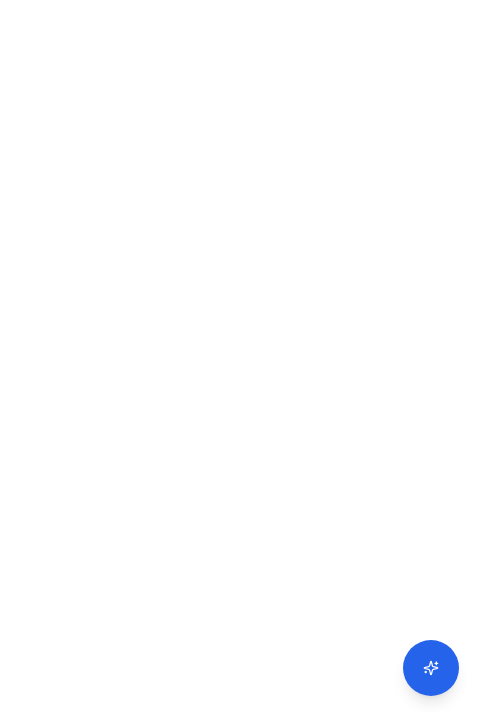
Scenario: AIAssistant › displays localized API errors inline
Click the button named "Открыть AI-ассистента": (431, 668) [403, 640, 459, 696]
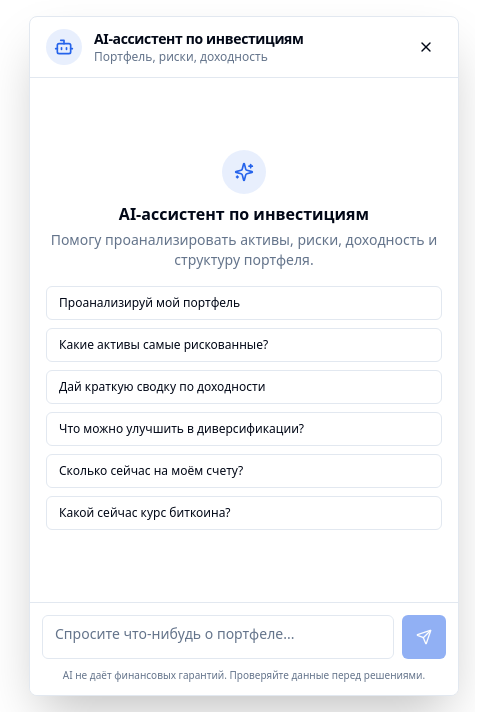
In the text box with placeholder "Спросите что-нибудь о портфеле...": (218, 637) [42, 615, 394, 659], type "Say hello"
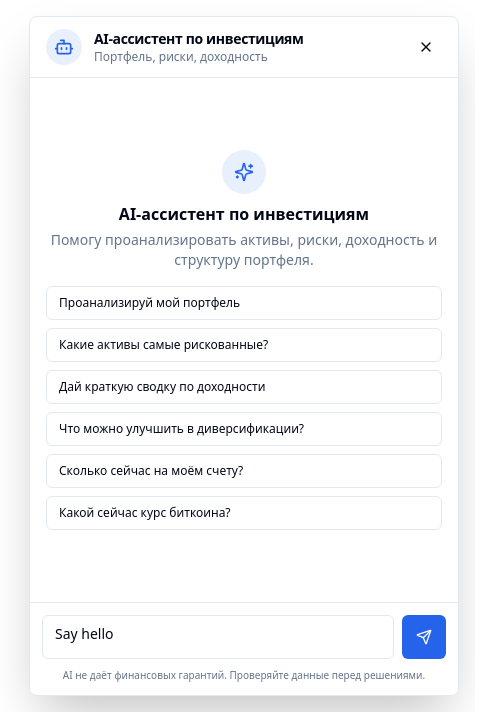
Click the button named "Отправить": (424, 637) [402, 615, 446, 659]
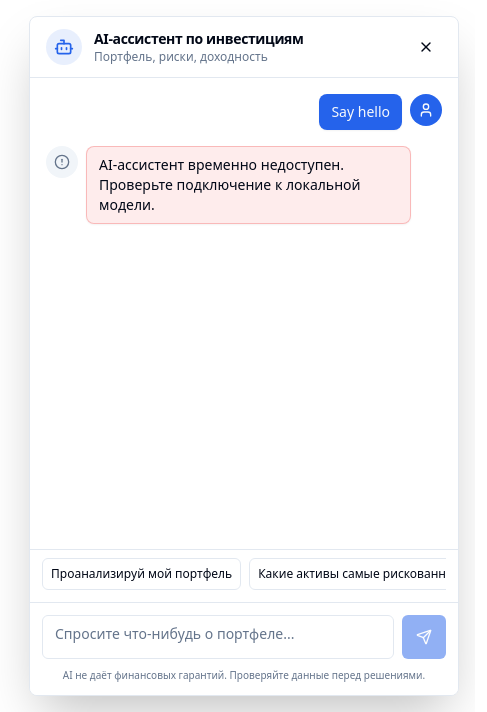
Result: the text "AI-ассистент временно недоступен. Проверьте подключение к локальной модели." is shown at [99, 155, 398, 215]
